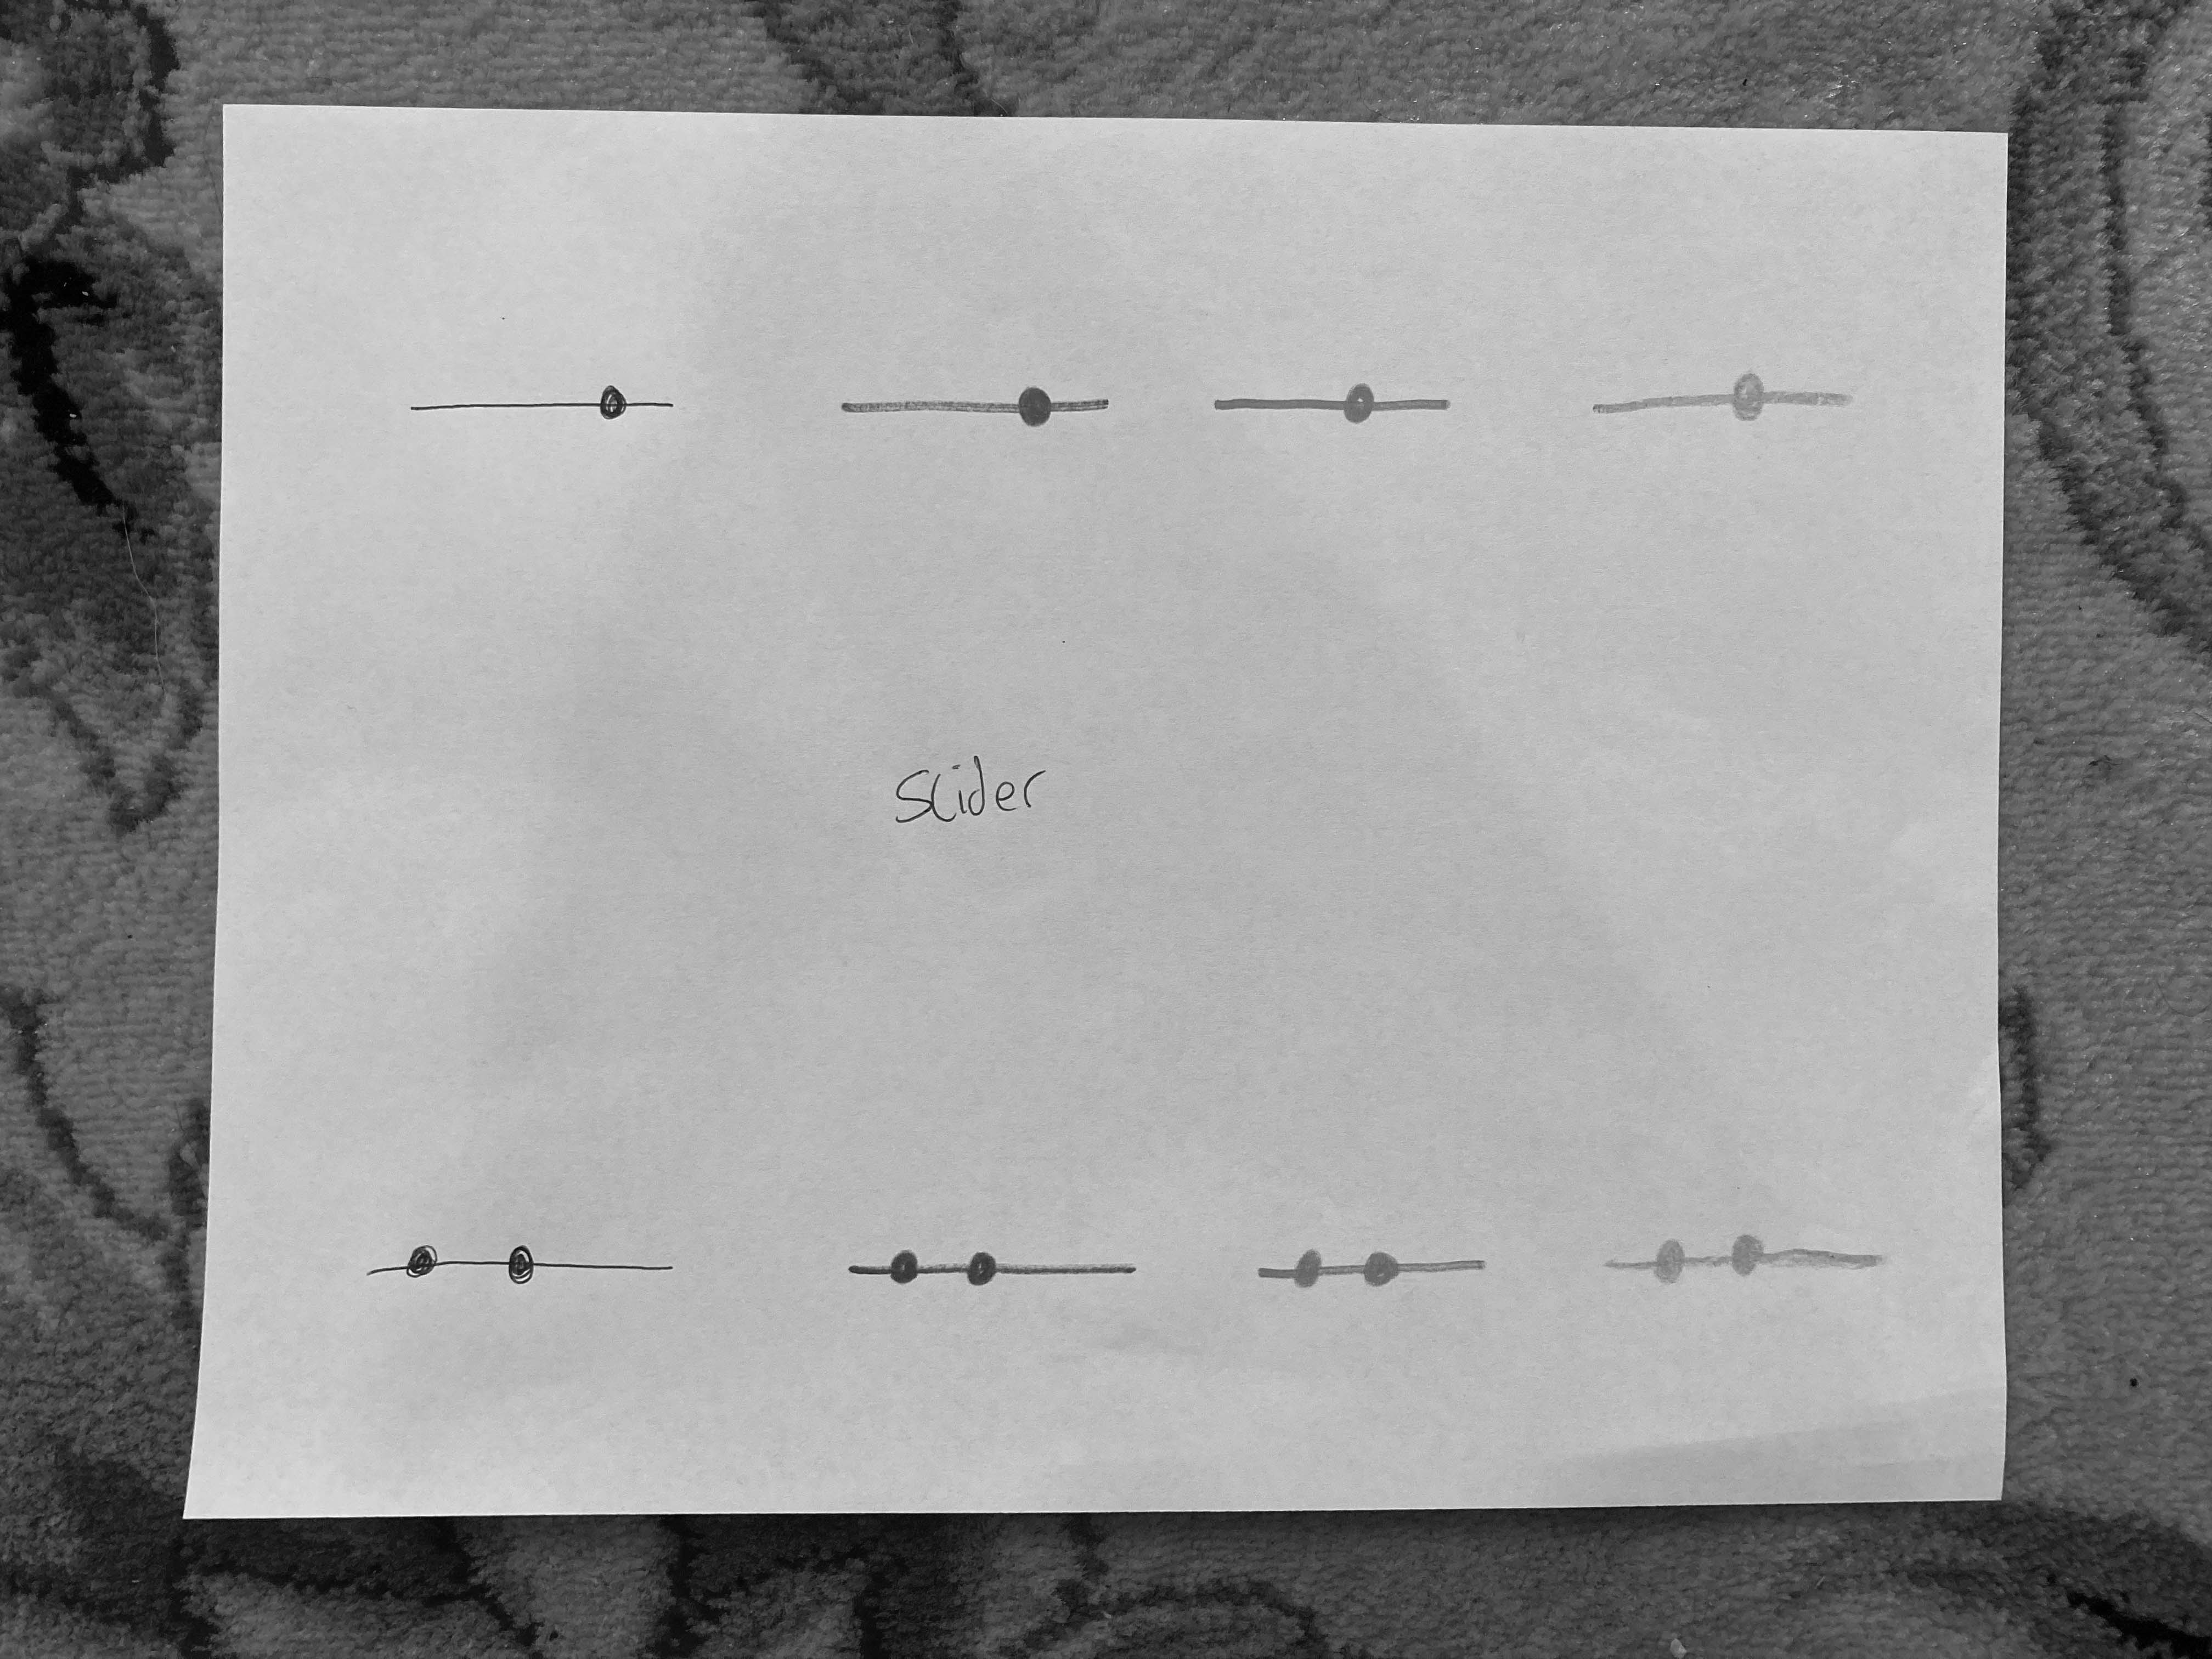slider: (838, 1227, 1160, 1309), (829, 364, 1122, 446), (402, 359, 695, 439), (352, 1234, 678, 1304), (1204, 361, 1461, 444), (1599, 1227, 1886, 1295), (1578, 366, 1869, 432), (1254, 1230, 1496, 1293)
